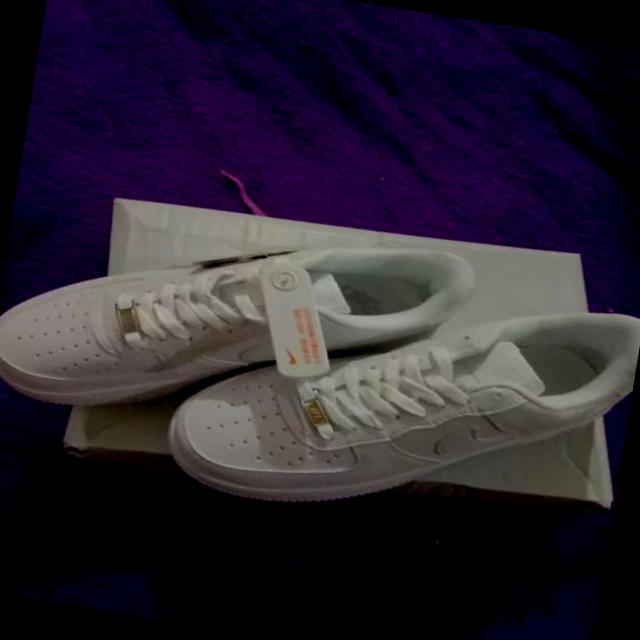nike_fake_airforce: (157, 245, 640, 556), (0, 179, 482, 465)
